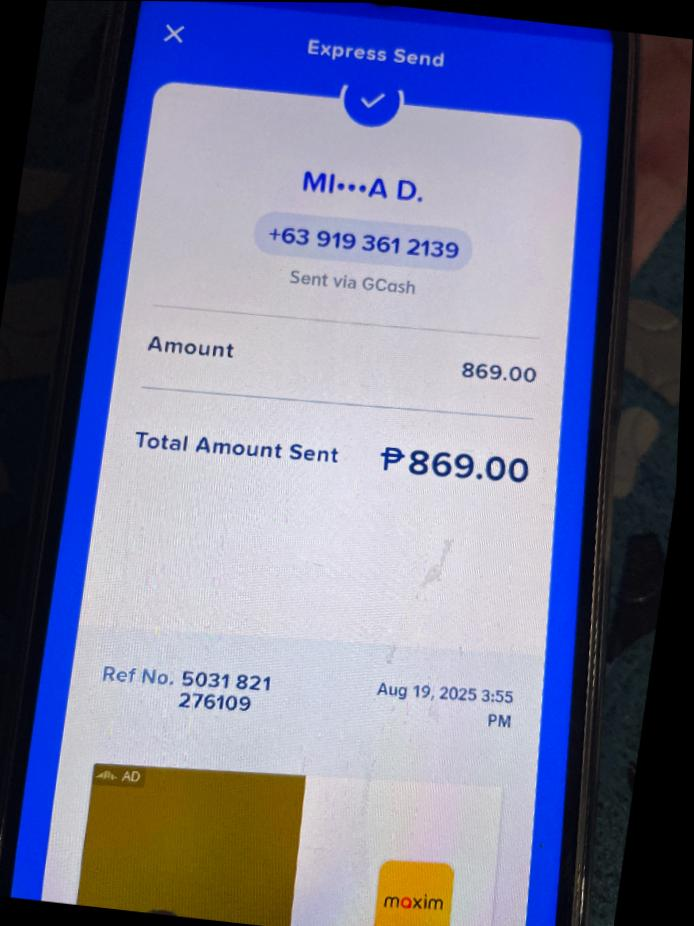Receipt: (11, 1, 608, 926)
